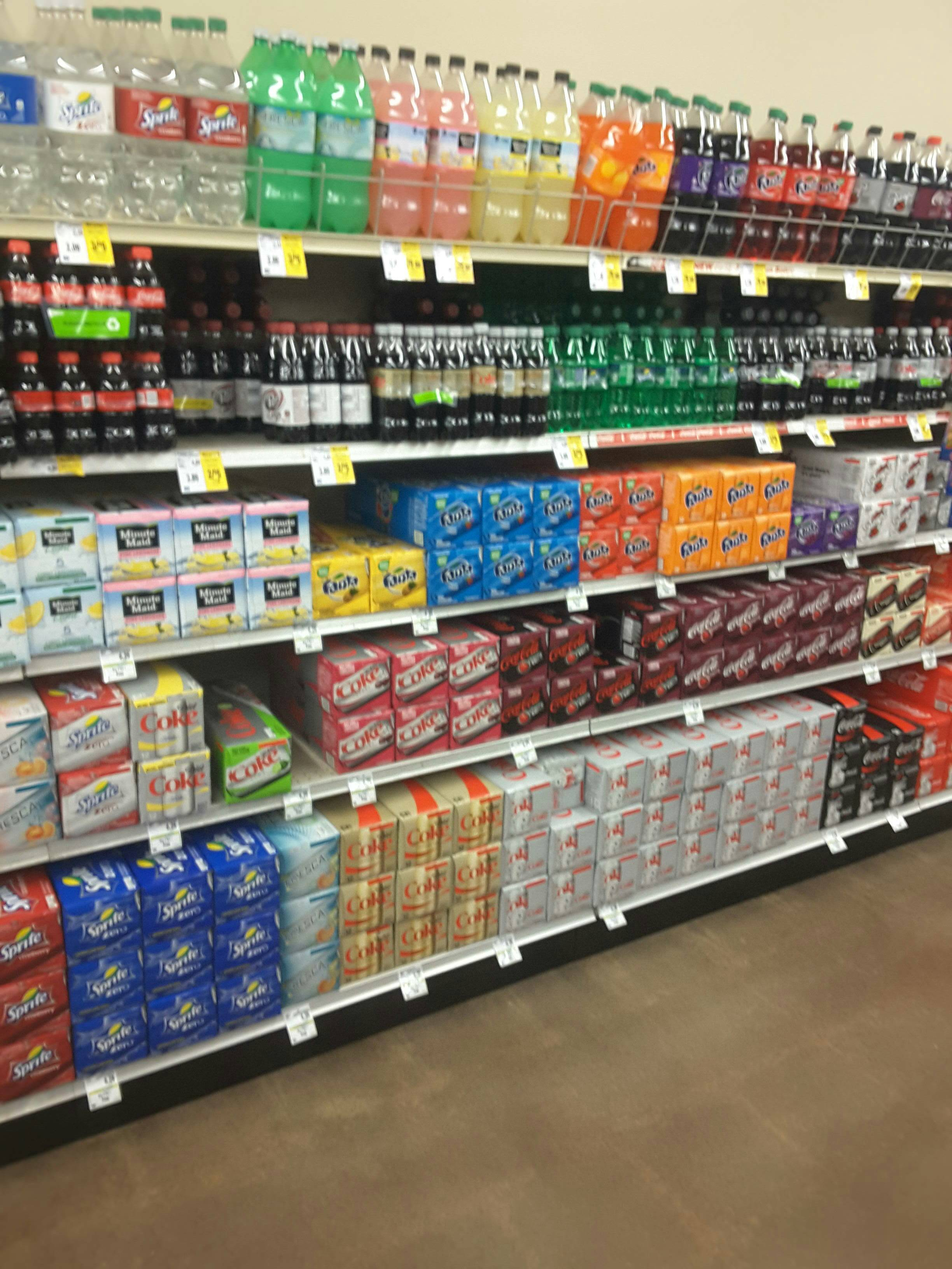Bottle: (112, 6, 181, 222), (46, 1, 110, 220), (185, 16, 249, 228), (250, 31, 315, 231), (374, 44, 429, 239), (316, 38, 371, 232), (476, 59, 528, 244), (0, 0, 42, 214), (582, 77, 632, 249), (532, 72, 576, 245), (432, 52, 472, 240), (636, 84, 672, 253), (675, 93, 711, 250), (748, 108, 784, 258), (714, 102, 746, 258), (787, 113, 818, 263), (821, 119, 851, 264), (127, 244, 166, 351), (885, 135, 916, 268), (275, 323, 309, 441), (5, 240, 42, 348), (86, 243, 123, 351), (46, 242, 82, 351), (854, 122, 881, 264), (136, 353, 173, 456), (54, 353, 91, 456), (95, 355, 131, 458), (378, 323, 409, 441), (313, 325, 344, 441), (16, 353, 51, 455), (235, 323, 266, 438), (201, 320, 232, 435), (918, 139, 943, 270), (443, 326, 471, 441), (413, 325, 441, 439), (347, 327, 374, 440), (666, 330, 696, 425), (527, 326, 552, 438), (499, 326, 524, 438), (176, 321, 200, 436), (473, 326, 496, 438), (563, 329, 587, 432), (611, 327, 635, 429), (760, 329, 786, 420), (588, 327, 610, 430), (891, 327, 917, 411), (787, 329, 811, 418), (853, 327, 877, 414), (697, 329, 717, 423), (830, 326, 850, 413), (738, 329, 757, 420), (718, 329, 737, 420), (637, 330, 654, 428), (812, 326, 827, 414), (920, 327, 936, 409), (938, 326, 952, 410)
Box: (20, 516, 99, 584), (27, 586, 105, 651), (101, 513, 178, 576), (61, 770, 134, 835), (131, 692, 203, 755), (55, 704, 127, 767), (108, 579, 178, 643), (136, 759, 210, 818), (220, 739, 292, 797), (69, 956, 139, 1015), (0, 970, 67, 1031), (245, 502, 309, 565), (247, 567, 311, 629), (182, 505, 243, 568), (140, 881, 215, 932), (182, 574, 245, 634), (66, 900, 136, 954), (143, 935, 214, 988), (0, 1036, 68, 1091), (73, 1019, 144, 1071), (1, 779, 57, 843), (148, 993, 215, 1045), (0, 909, 63, 964), (217, 915, 278, 968), (311, 559, 370, 613), (220, 971, 281, 1023), (334, 657, 390, 713), (218, 860, 279, 911), (282, 895, 341, 947), (334, 717, 394, 768), (429, 550, 485, 604), (0, 717, 52, 775), (429, 490, 480, 546), (371, 555, 424, 608), (282, 842, 340, 889), (484, 485, 533, 540), (342, 825, 397, 873), (282, 950, 339, 996), (394, 651, 446, 701), (344, 930, 394, 982), (395, 703, 446, 753), (449, 644, 501, 693), (397, 863, 448, 912), (344, 877, 392, 928), (485, 542, 532, 594), (450, 695, 501, 742), (453, 795, 499, 846), (395, 915, 448, 958), (500, 883, 546, 932), (535, 481, 578, 533), (535, 536, 578, 588), (502, 682, 548, 730), (548, 624, 594, 672), (550, 675, 597, 721), (402, 814, 449, 860), (452, 850, 497, 897), (449, 900, 498, 943), (581, 477, 621, 529), (640, 609, 681, 659), (547, 869, 593, 913), (504, 784, 545, 833), (675, 473, 718, 519), (501, 633, 545, 677), (597, 807, 638, 854), (624, 473, 662, 523), (501, 837, 543, 882), (582, 530, 621, 578), (597, 667, 640, 710), (683, 603, 722, 650), (547, 825, 591, 866), (719, 470, 758, 516), (548, 759, 584, 808), (594, 857, 637, 898), (722, 598, 761, 643), (684, 652, 723, 697), (712, 521, 751, 566), (672, 527, 710, 573), (641, 661, 681, 704), (759, 466, 797, 511), (621, 527, 658, 573), (763, 590, 800, 633), (724, 645, 760, 687), (753, 517, 787, 561), (788, 513, 822, 557), (717, 823, 755, 862), (641, 843, 678, 883), (764, 637, 800, 678), (860, 455, 895, 497), (681, 832, 716, 874), (600, 764, 644, 797), (641, 800, 676, 841), (822, 509, 855, 552), (646, 752, 686, 787), (719, 780, 754, 820), (682, 789, 716, 830), (689, 744, 729, 778), (757, 809, 791, 847), (857, 504, 889, 544), (800, 585, 831, 626), (898, 454, 928, 495), (802, 713, 837, 748), (730, 733, 766, 767), (800, 631, 831, 670), (898, 571, 928, 611), (834, 578, 863, 619), (791, 797, 824, 833), (865, 577, 897, 614), (857, 779, 889, 816), (757, 769, 788, 807), (789, 760, 822, 794), (891, 500, 919, 540), (864, 621, 892, 660), (889, 730, 918, 767), (827, 750, 855, 788), (769, 725, 802, 757), (923, 612, 952, 648), (824, 791, 853, 826), (833, 625, 859, 664), (919, 759, 948, 793), (837, 706, 869, 736), (923, 722, 952, 755), (889, 769, 917, 803), (895, 615, 921, 651), (861, 738, 887, 773), (920, 497, 942, 533)
